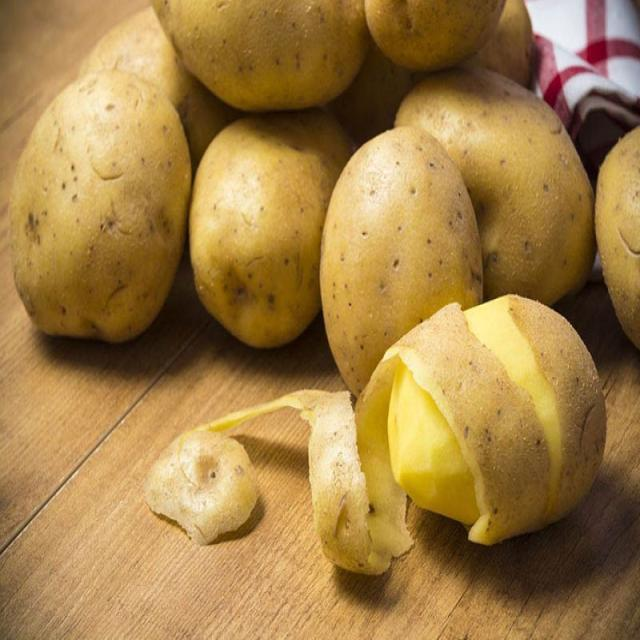Potato: (329, 72, 614, 570), (0, 17, 241, 370)
